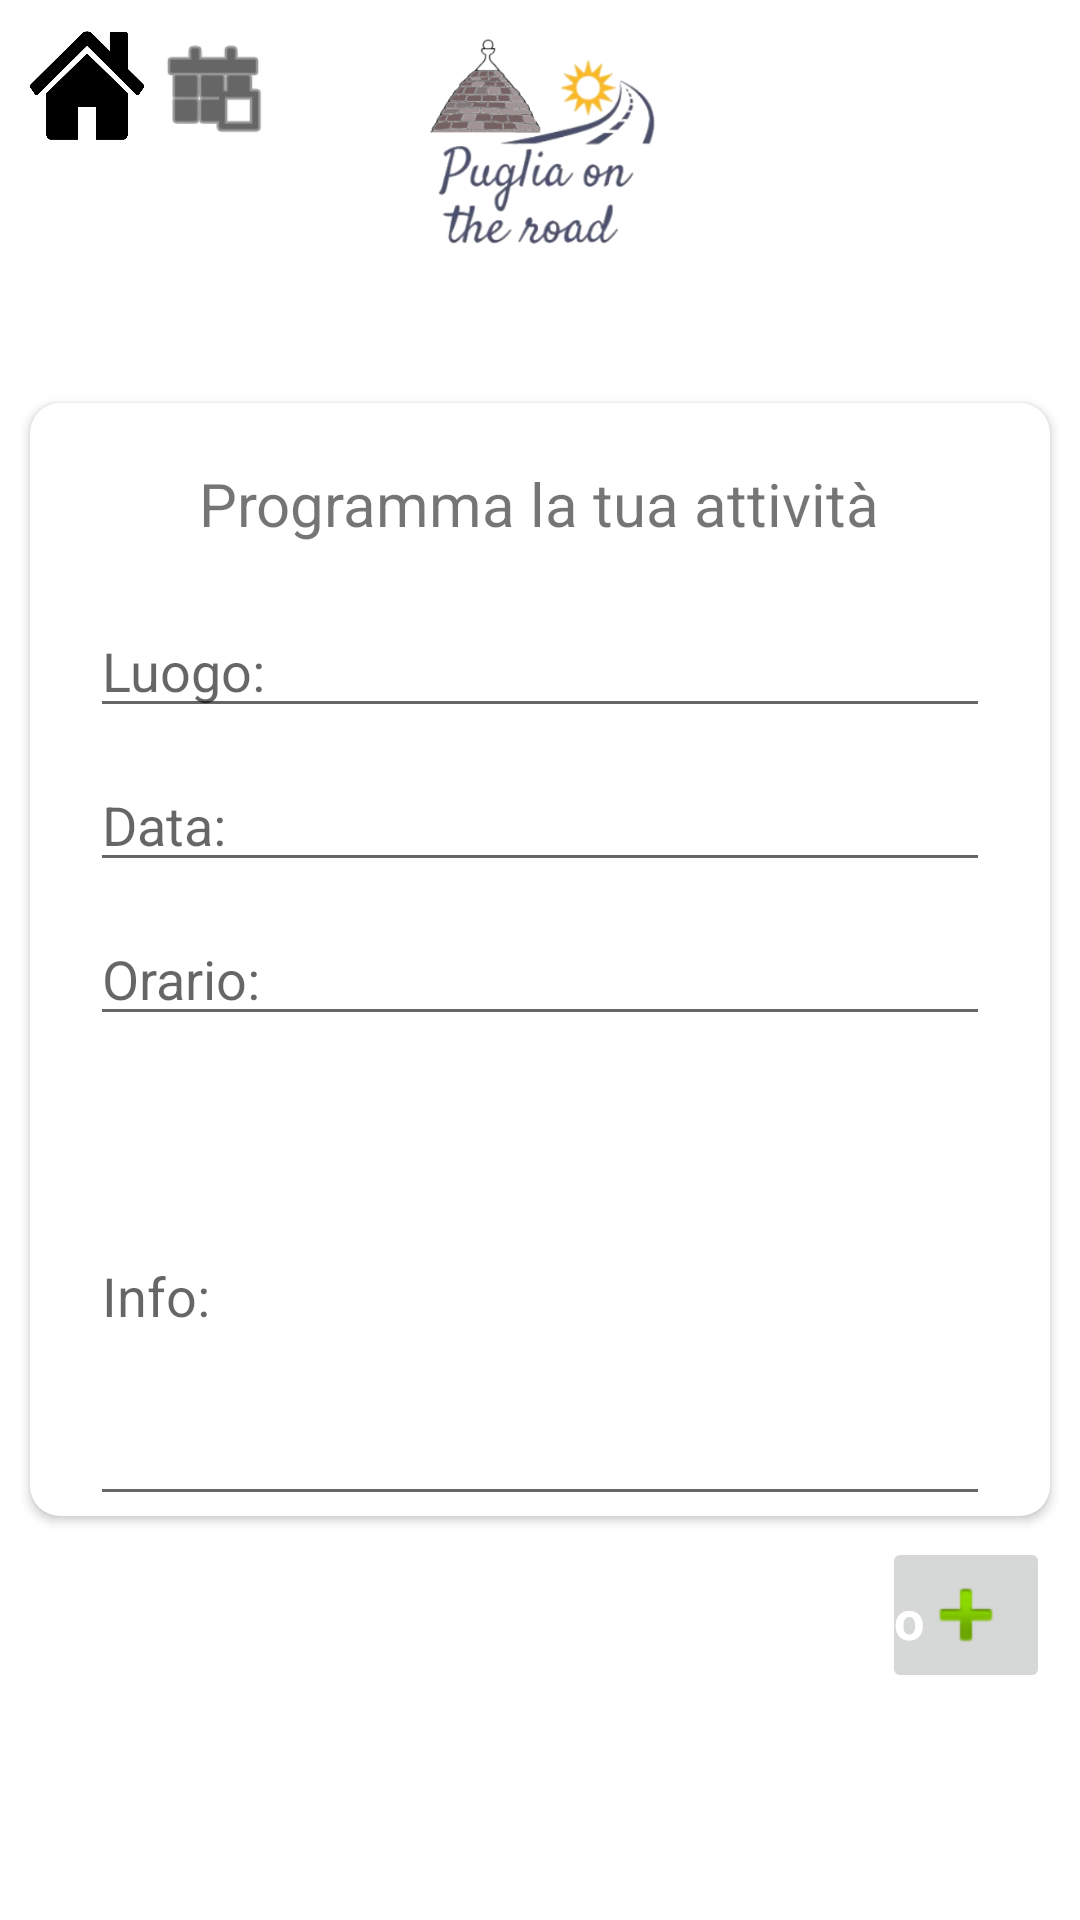

Icon click points for this 1080px×1920px phone screenshot, format point (x, y):
add: point (966, 1615)
home: point (87, 85)
today: point (214, 88)
